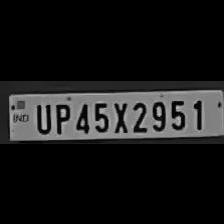1: (188, 96, 208, 130)
2: (128, 98, 148, 132)
4: (72, 98, 90, 132)
5: (90, 98, 110, 132), (167, 95, 187, 129)
9: (148, 97, 166, 130)
P: (51, 99, 70, 133)
U: (32, 99, 52, 133)
X: (110, 98, 130, 132)
